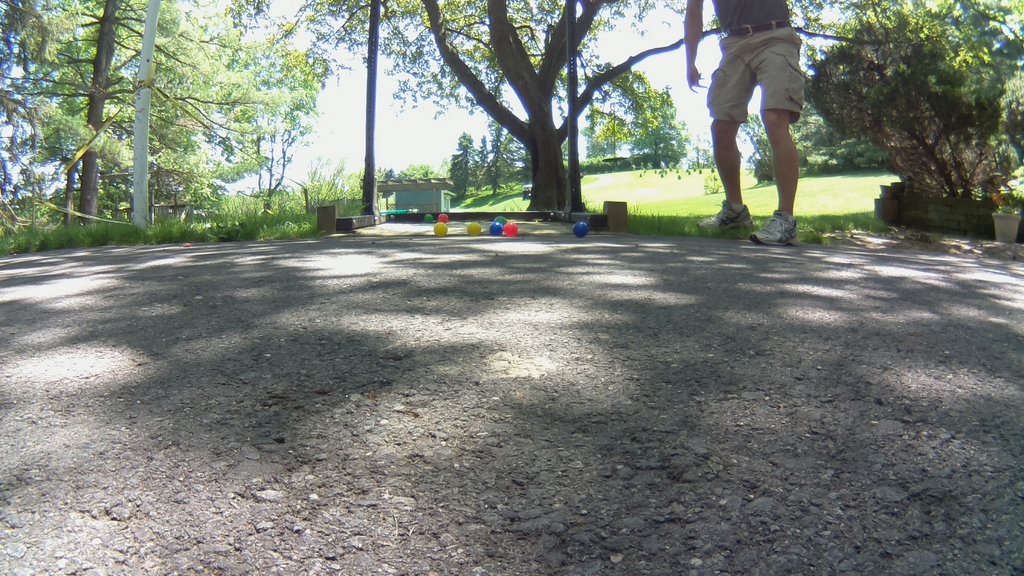ball: (574, 220, 588, 238)
